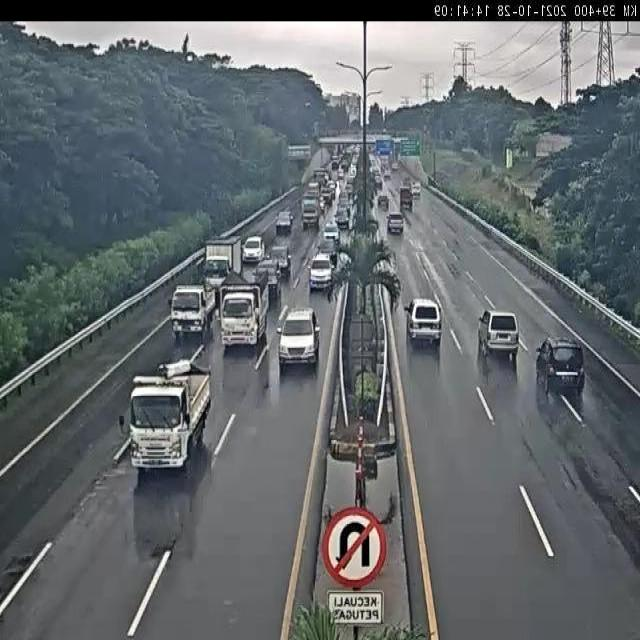Car: (536, 335, 586, 395), (276, 308, 321, 372), (478, 310, 520, 363), (408, 297, 444, 348), (308, 253, 334, 292), (242, 236, 266, 264), (319, 238, 339, 268), (322, 220, 340, 245), (275, 211, 293, 235), (386, 212, 404, 235), (335, 205, 350, 230), (347, 202, 357, 231), (320, 186, 333, 208), (307, 181, 320, 200), (314, 169, 327, 186), (377, 193, 389, 210), (346, 176, 355, 198), (327, 180, 337, 197), (411, 182, 421, 197), (318, 196, 326, 213), (348, 164, 356, 180), (374, 172, 382, 188), (383, 168, 391, 180), (331, 160, 339, 172), (338, 165, 344, 179), (392, 161, 399, 171)
Truck: (124, 360, 210, 473), (132, 450, 206, 560), (219, 268, 271, 350), (170, 284, 216, 342), (254, 254, 284, 297), (203, 255, 232, 293), (270, 242, 292, 282), (302, 196, 318, 228), (399, 187, 413, 210)
